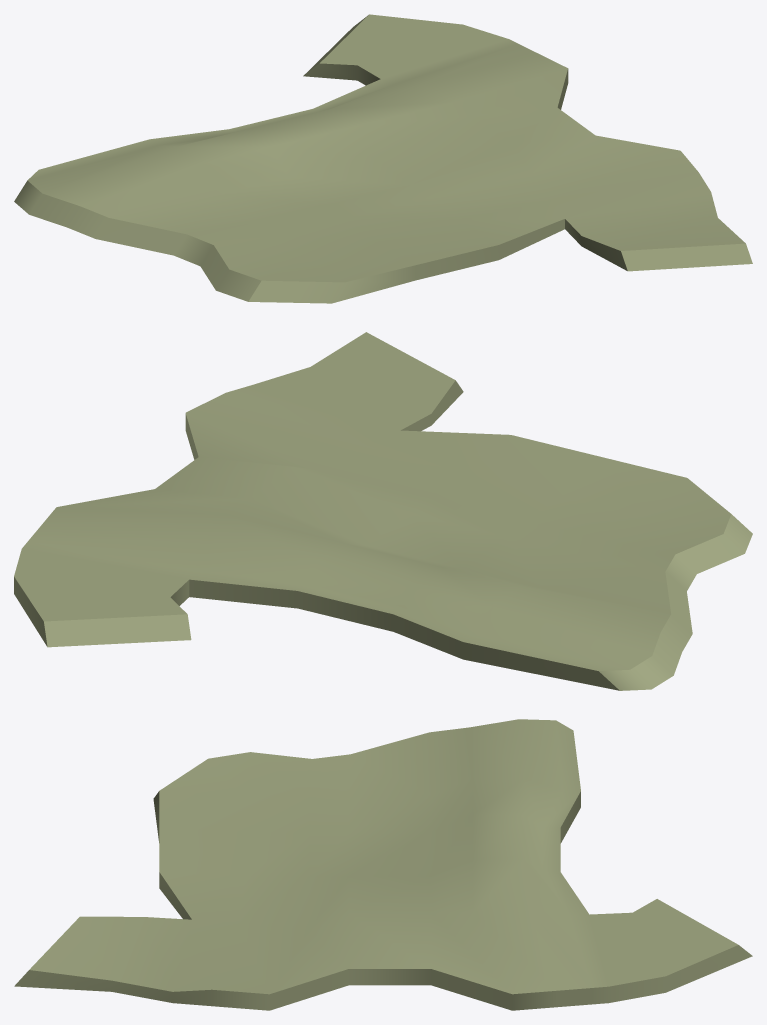
Rendered from 04shirt1_nieuwestijl.fbx.
3 renders of one model, top to bottom at view 1: azimuth 30°, elevation 25°; view 2: azimuth 150°, elevation 25°; view 3: azimuth 270°, elevation 25°, orthographic. The views are drawn at different scales.
Visible parts, largest first — view 1: pCube232; view 2: pCube232; view 3: pCube232.
Part boxes in pixels (<box>): pCube232: <box>14,14,752,303</box>; pCube232: <box>14,332,752,690</box>; pCube232: <box>14,719,752,1010</box>.
Size of the model in its own units: 1.96 by 0.0938 by 2.16.
